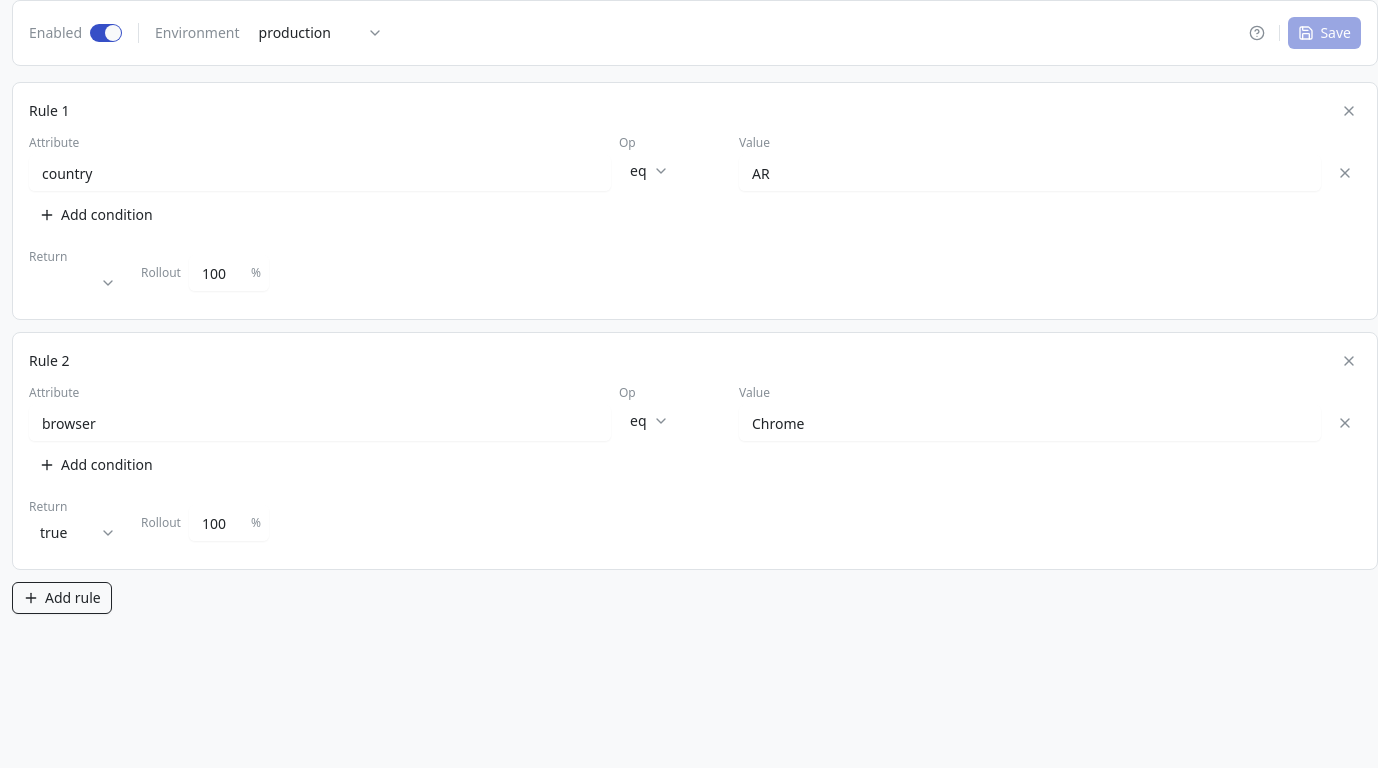
Scenario: RuleEditor › can delete a rule, keeping at least one
The image size is (1378, 768).
Click the button named "remove rule 1" at {"x": 1349, "y": 111}, box [1337,99,1361,123]
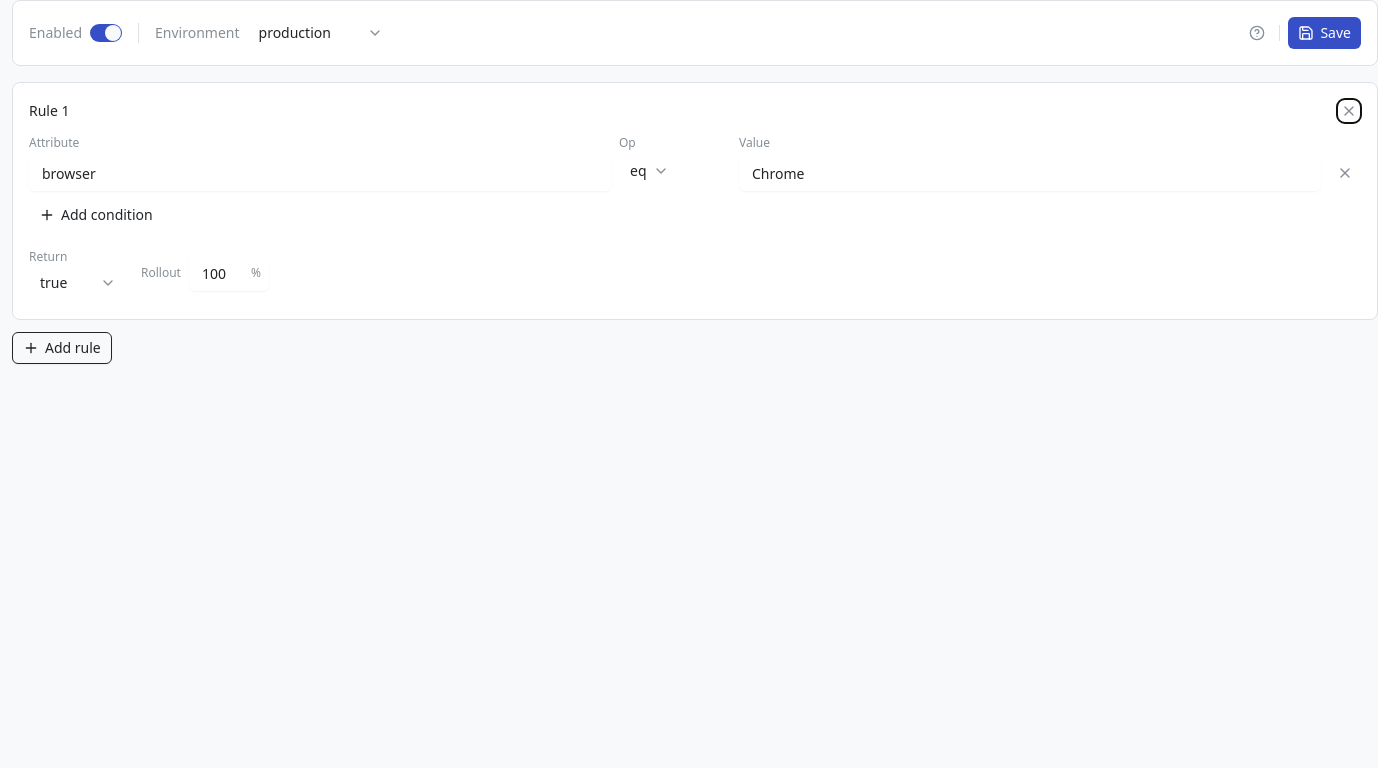
Expected: the text "Rule 1" is shown, [29,101,70,121]
Now the text "Rule 2" is gone
